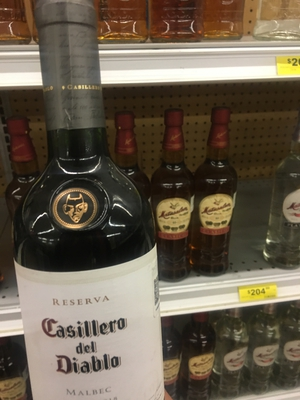casillero del diablo malbec: (17, 19, 182, 400)
